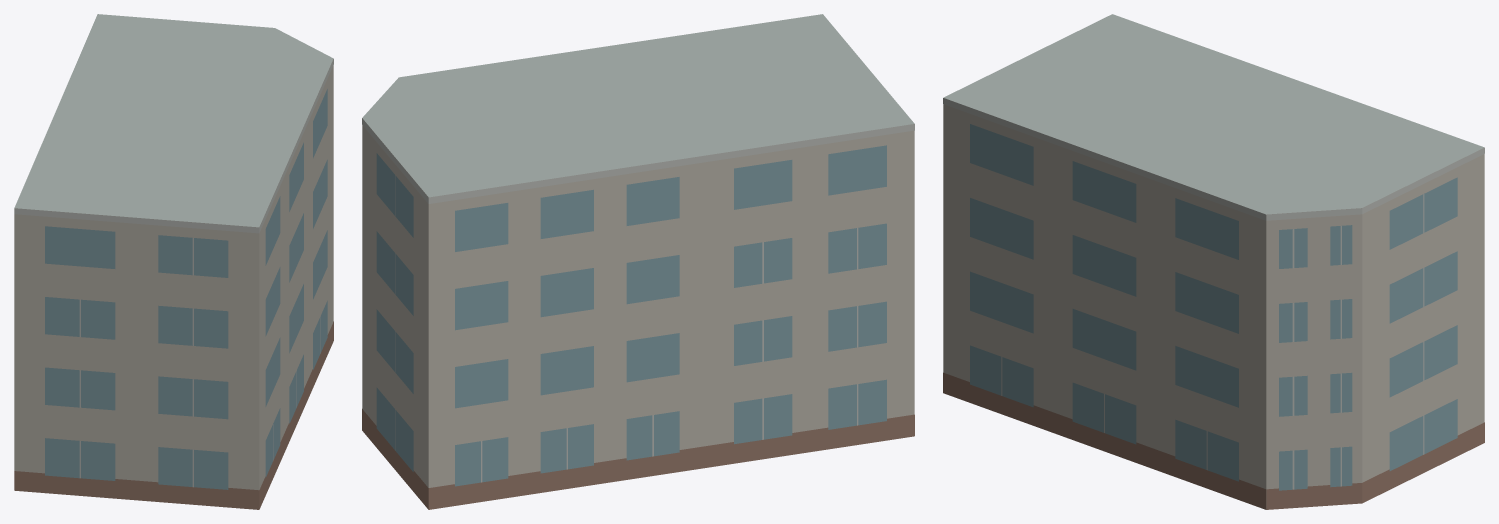
File: survey-upis-32966991.glb
The picture shows the model from 3 angles, left to right: view 1: azimuth 30°, elevation 25°; view 2: azimuth 150°, elevation 25°; view 3: azimuth 270°, elevation 25°; orthographic projection. The views are drawn at different scales.
Visible parts, largest first — view 1: survey-upis-32966991.tmp; view 2: survey-upis-32966991.tmp; view 3: survey-upis-32966991.tmp.
Part boxes in pixels (box(x1,y1,x2,y2)): survey-upis-32966991.tmp: box(14, 14, 333, 509); survey-upis-32966991.tmp: box(362, 14, 914, 509); survey-upis-32966991.tmp: box(943, 14, 1484, 509).
Bounding box in the file's own units: 16.61 × 11.4 × 18.96.
